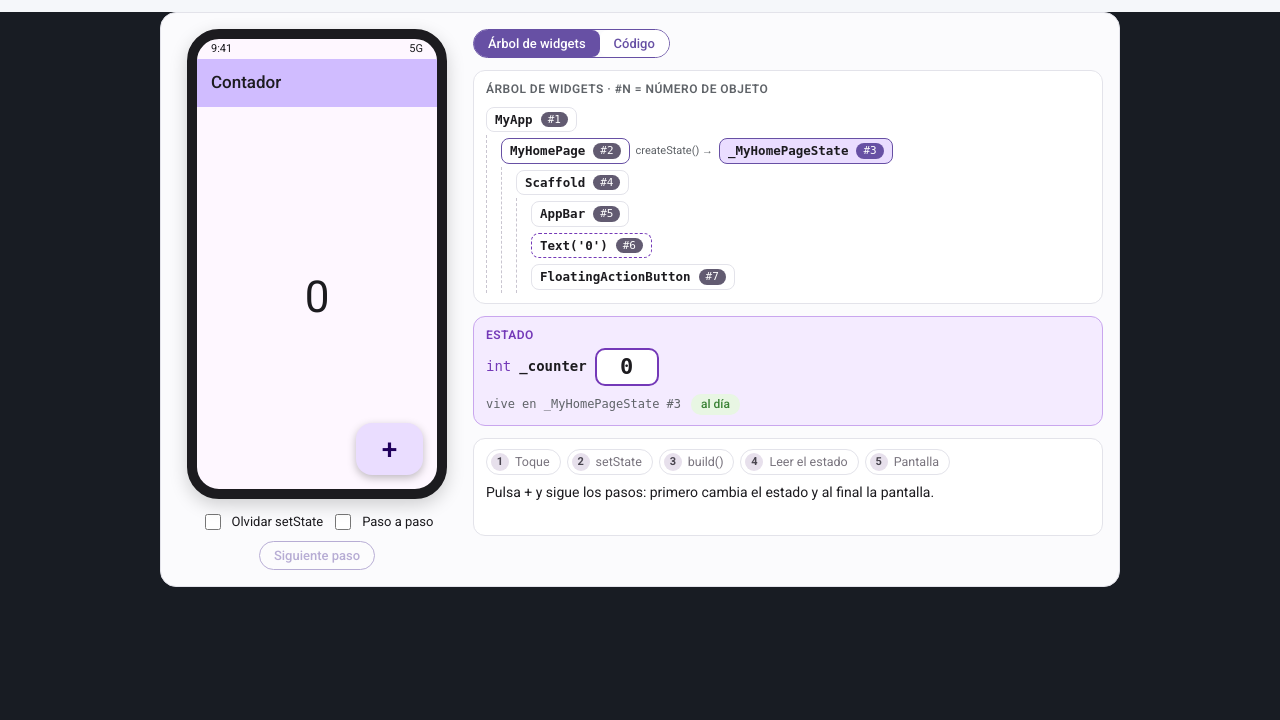
state-tree › shows the forgotten setState: the state moves, the screen does not
Click the checkbox labelled "Olvidar setState".
click(212, 522)  # box [204,514,220,530]
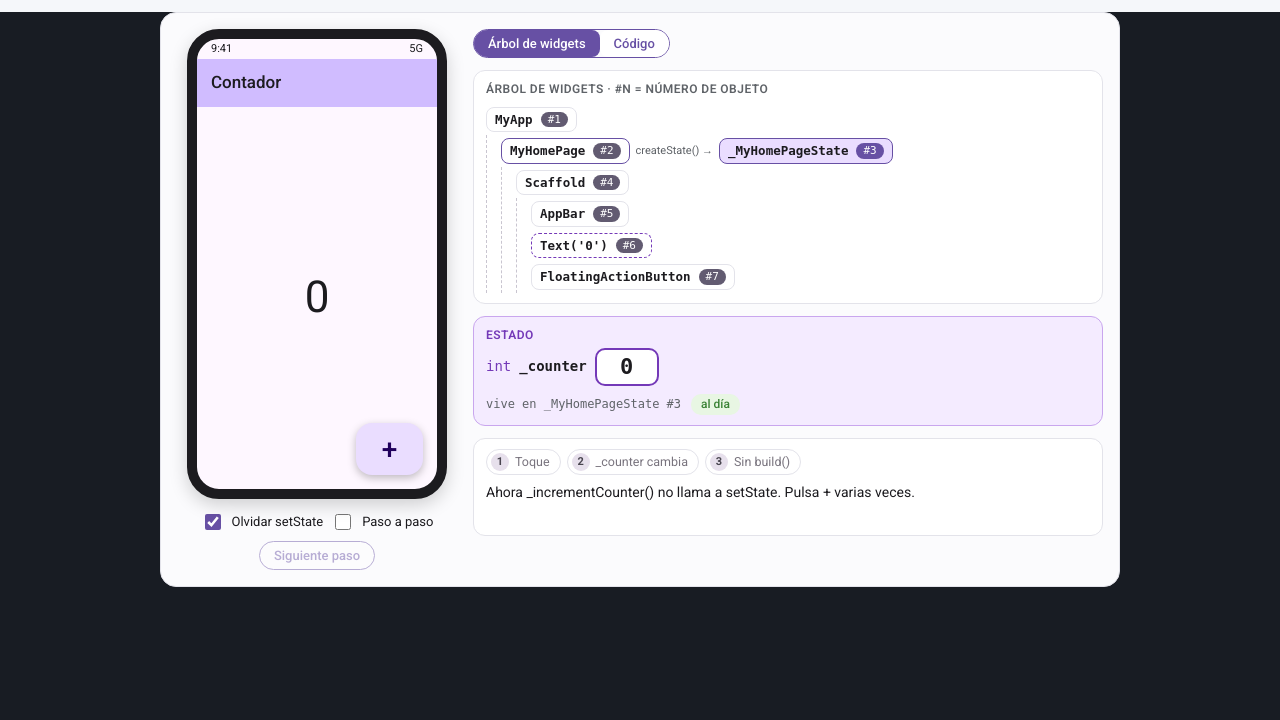
Click the button named "Incrementar".
click(389, 449)  # box [356,423,423,475]
Wait 4400 ms
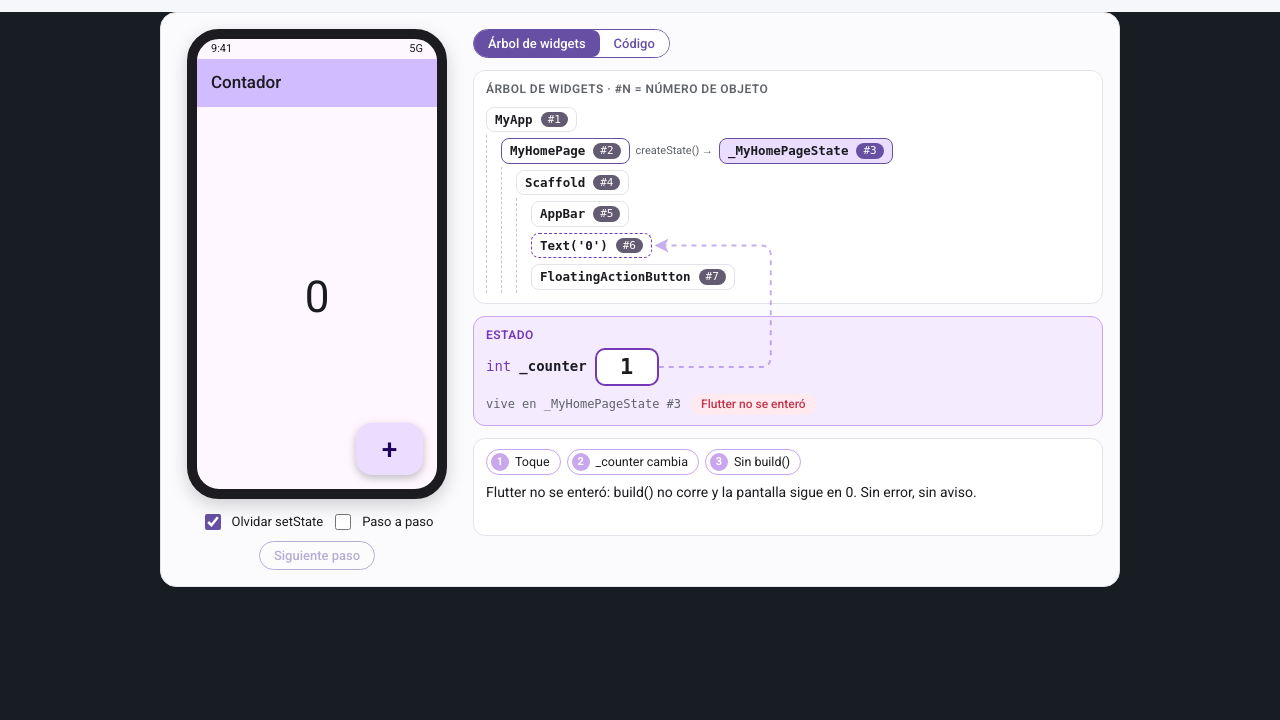
Click the button named "Incrementar".
click(389, 449)  # box [356,423,423,475]
Wait 4400 ms
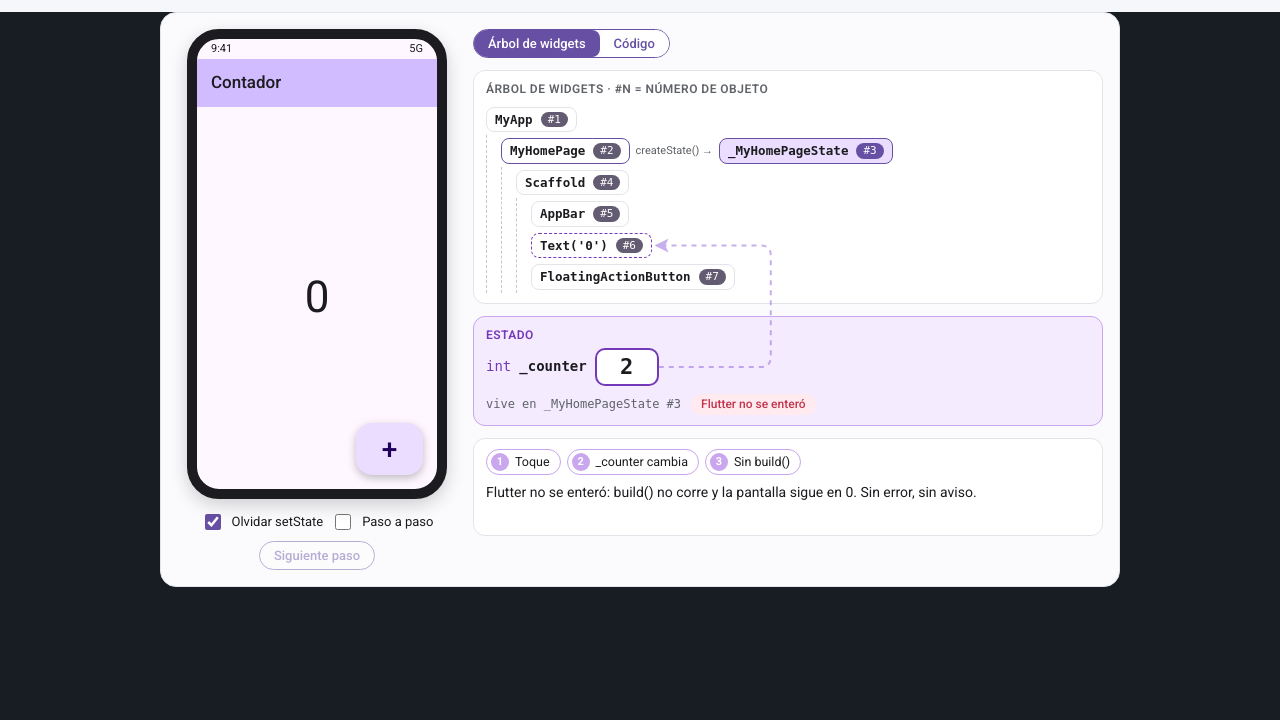
Expected: the text with test id "tree-counter" reads "0", [305,271,329,323]
Result: the text "Flutter no se enteró" is shown at [691,394,816,415]
Result: the text with test id "var-_counter" reads "2" at [620,354,633,379]
Click the checkbox labelled "Olvidar setState".
click(212, 522)  # box [204,514,220,530]
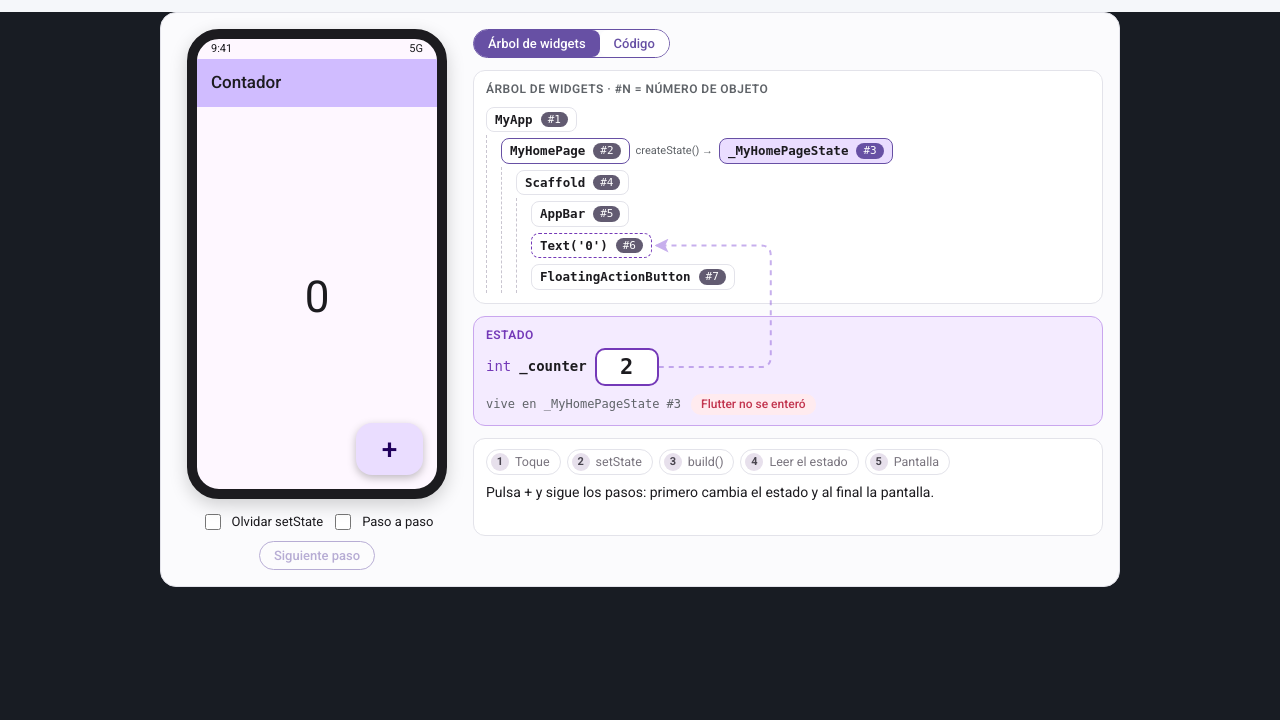
Click the button named "Incrementar".
click(389, 449)  # box [356,423,423,475]
Wait 6600 ms
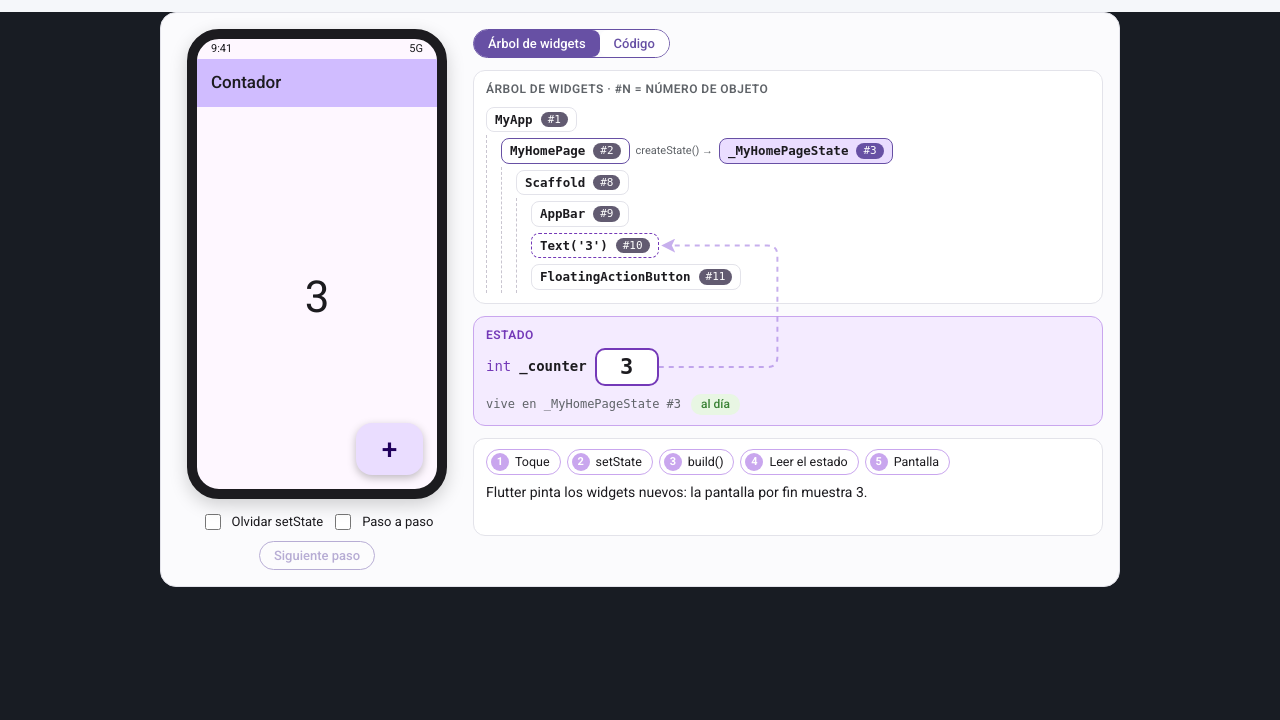
Result: the text with test id "tree-counter" reads "3" at [305,271,329,323]
Result: the text "al día" is shown at [691,394,740,415]
